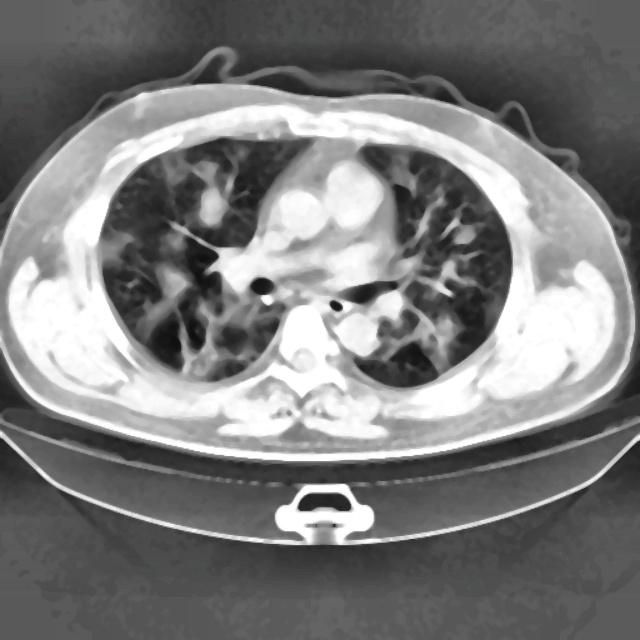covid: (1, 50, 637, 466)
